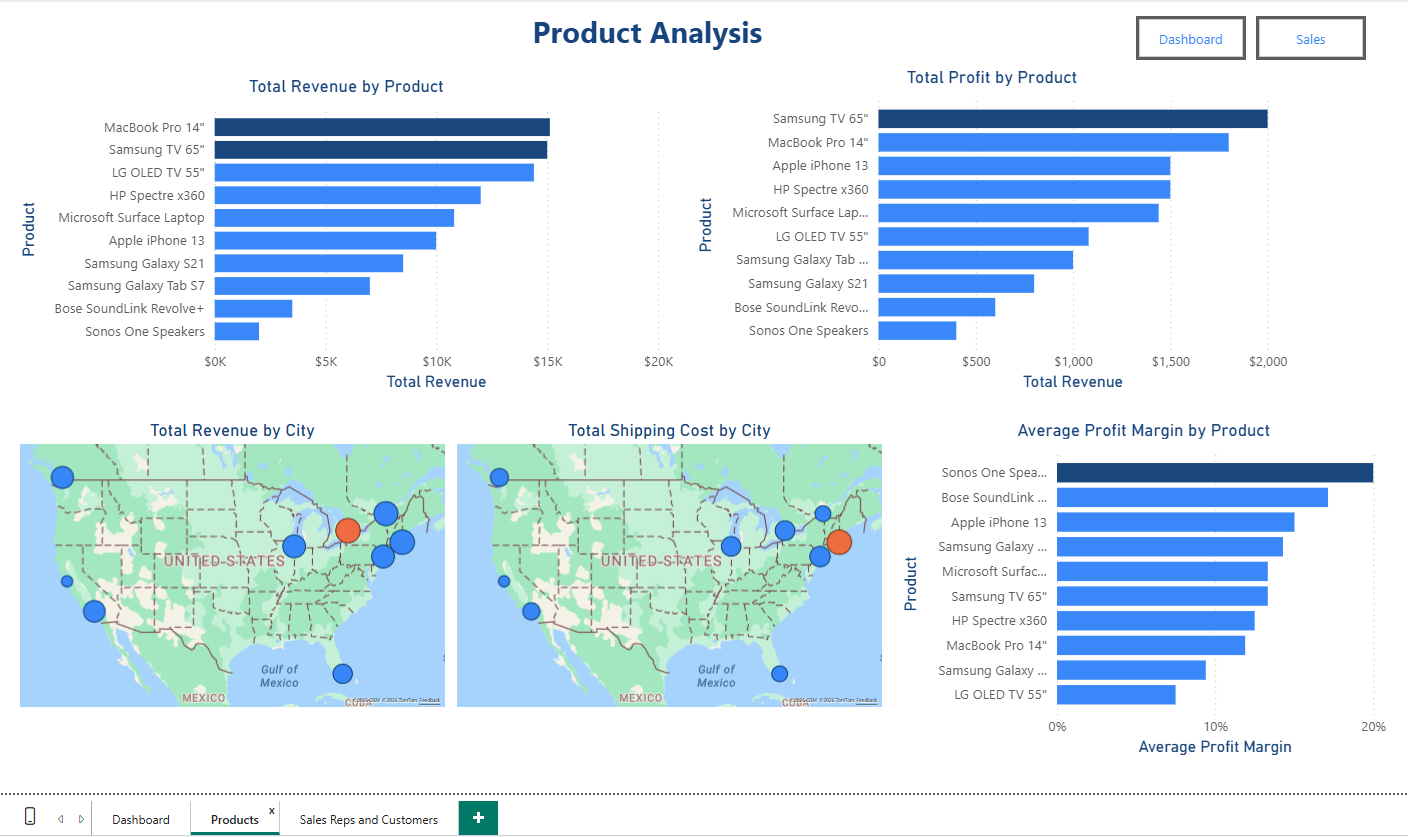

This screenshot's page, from the dashboard's own definition file:
{"tool":"powerbi","page":{"name":"Products","canvas":[1280,720],"ordinal":1},"visuals":[{"type":"barChart","title":"Total Profit by Product","fields":{"Category":["Products.ProductName"],"Y":["Sum(Fact_Table.Profit_USD)"]},"box":[628.4,60.8,545.9,299.2],"z":0},{"type":"barChart","fields":{"Category":["Products.ProductName"],"Y":["Sum(Fact_Table.SaleAmount_USD)"]},"box":[14.5,68.9,603,291.1],"z":1000},{"type":"azureMap","title":"Total Revenue by City","fields":{"Category":["Cities.City"],"Size":["Sum(Fact_Table.SaleAmount_USD)"]},"box":[14.5,380.9,396.3,265.7],"z":2000},{"type":"azureMap","title":"Total Shipping Cost by City","fields":{"Category":["Cities.City"],"Size":["Sum(Fact_Table.ShippingCost_USD)"]},"box":[410.8,380.9,396.3,265.7],"z":3000},{"type":"barChart","title":"Average Profit Margin by Product","fields":{"Category":["Products.ProductName"],"Y":["Fact_Table.Average Profit Margin"]},"box":[814.3,380.9,449.8,310.1],"z":4000},{"type":"textbox","box":[246.6,6.3,684.6,54.4],"z":5000},{"type":"actionButton","box":[1031.9,15.4,99.7,39.9],"z":5001},{"type":"actionButton","box":[1140.8,15.4,99.7,39.9],"z":5002}]}

Visuals, with their boxes on the page's 1280x720 design canvas (x1, y1, x2, y2). These are canvas units, not pixel positions in the 1408x837 screenshot, which may show the page scaled, cropped or inside an application window:
"Total Profit by Product" barChart: 628:61:1174:360
barChart - Products.ProductName x Sum(Fact_Table.SaleAmount_USD): 14:69:618:360
"Total Revenue by City" azureMap: 14:381:411:647
"Total Shipping Cost by City" azureMap: 411:381:807:647
"Average Profit Margin by Product" barChart: 814:381:1264:691
textbox: 247:6:931:61
actionButton: 1032:15:1132:55
actionButton: 1141:15:1240:55
